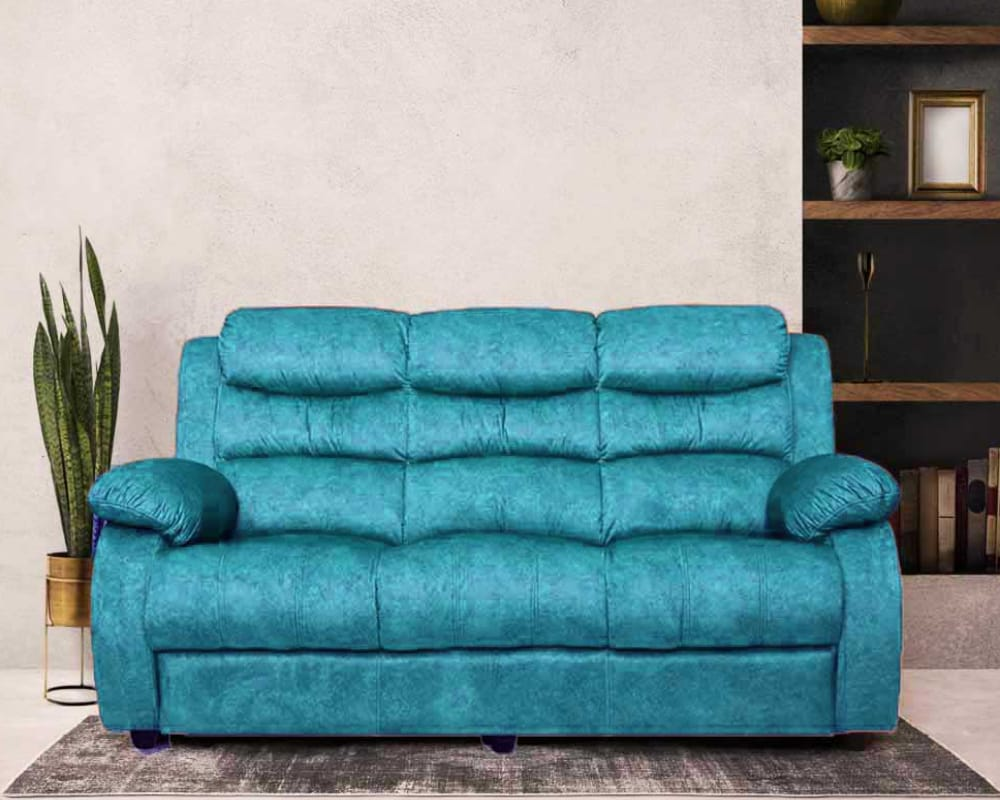3seatersofa: (90, 305, 901, 751)
backrest: (209, 303, 790, 534)
base: (160, 650, 835, 735)
leftarmrest: (768, 335, 901, 732)
leg: (132, 730, 169, 754), (481, 735, 516, 753), (836, 733, 871, 750)
rightarmrest: (90, 338, 235, 729)
seat: (146, 533, 842, 651)
